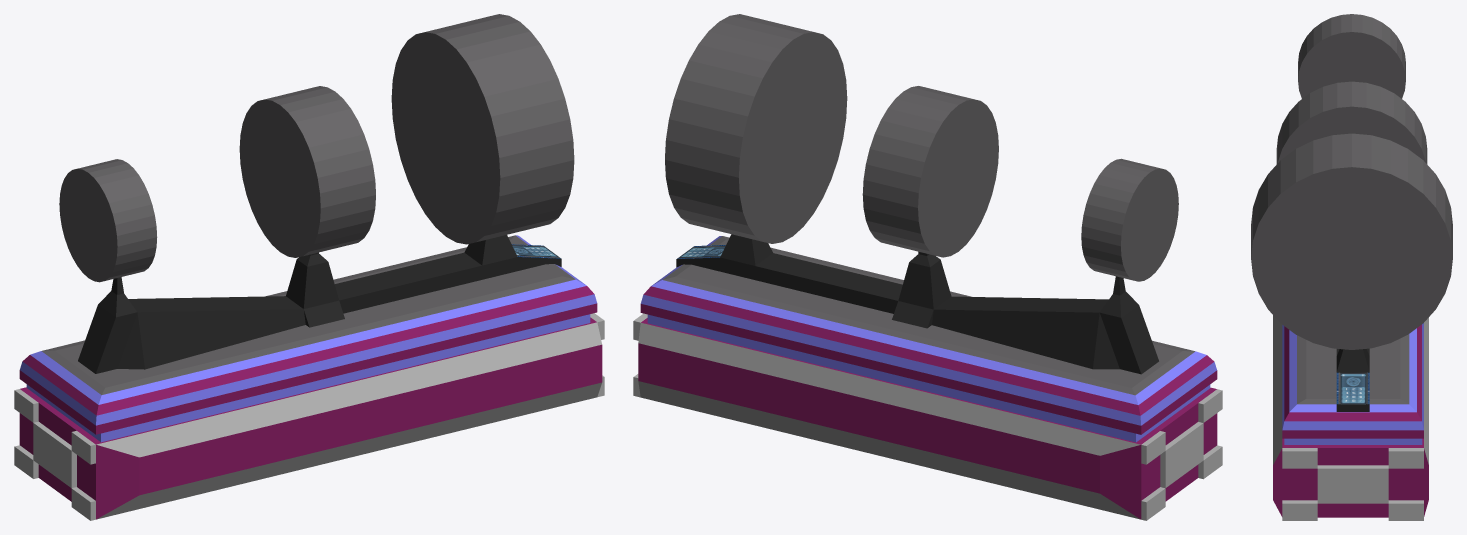
File: JumpDrive_Small_LOD3.fbx
The picture shows the model from 3 angles, left to right: view 1: azimuth 30°, elevation 25°; view 2: azimuth 150°, elevation 25°; view 3: azimuth 270°, elevation 25°; orthographic projection. The views are drawn at different scales.
Visible parts, largest first — view 1: Cube.006, Cylinder, Cylinder.001, Cylinder.002; view 2: Cube.006, Cylinder, Cylinder.001, Cylinder.002; view 3: Cylinder, Cube.006, Cylinder.001, Cylinder.002.
Boxes of the visible parts, x1,y1,x2,y2 form: Cube.006: (14, 235, 604, 520); Cylinder: (391, 14, 574, 244); Cylinder.001: (239, 86, 375, 257); Cylinder.002: (59, 159, 157, 282); Cube.006: (633, 234, 1222, 520); Cylinder: (665, 14, 847, 243); Cylinder.001: (862, 86, 998, 257); Cylinder.002: (1081, 158, 1178, 281); Cylinder: (1251, 133, 1452, 349); Cube.006: (1273, 315, 1428, 520); Cylinder.001: (1276, 81, 1427, 163); Cylinder.002: (1298, 14, 1405, 98).
Size of the model in its own units: 1.48 by 0.9824 by 0.5407.
